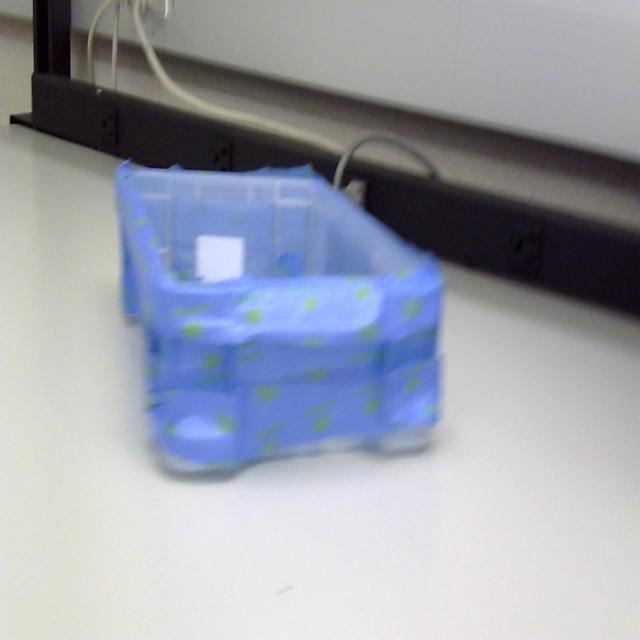bucket: (113, 162, 446, 484)
